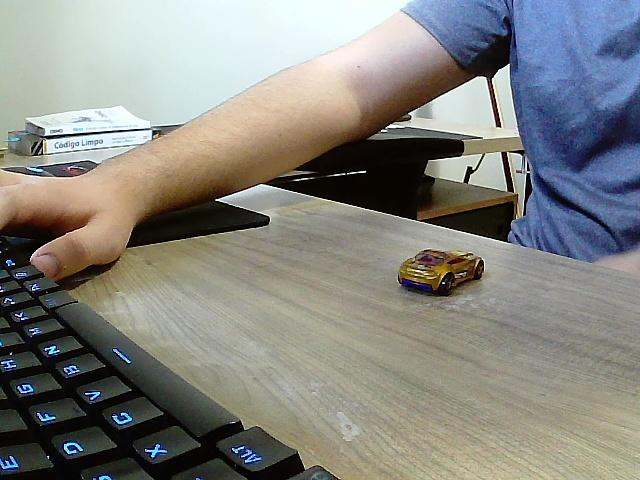Carro: (397, 250, 484, 296)
